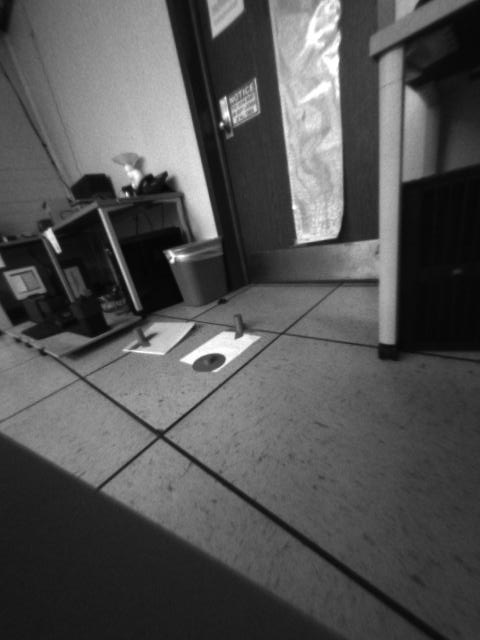X: (221, 313, 258, 339), (124, 326, 155, 352)
